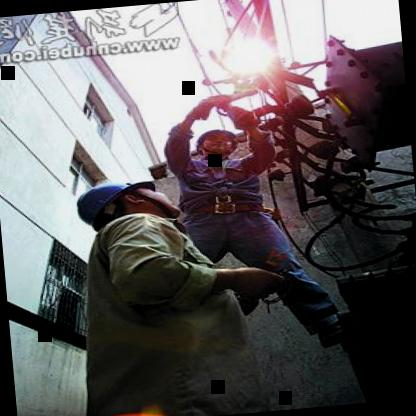helmet: (82, 166, 181, 235), (185, 119, 247, 162)
